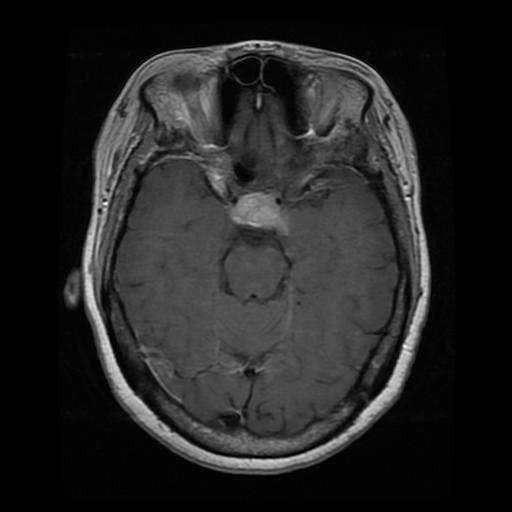Pituirity_tumour: (231, 189, 280, 228)
